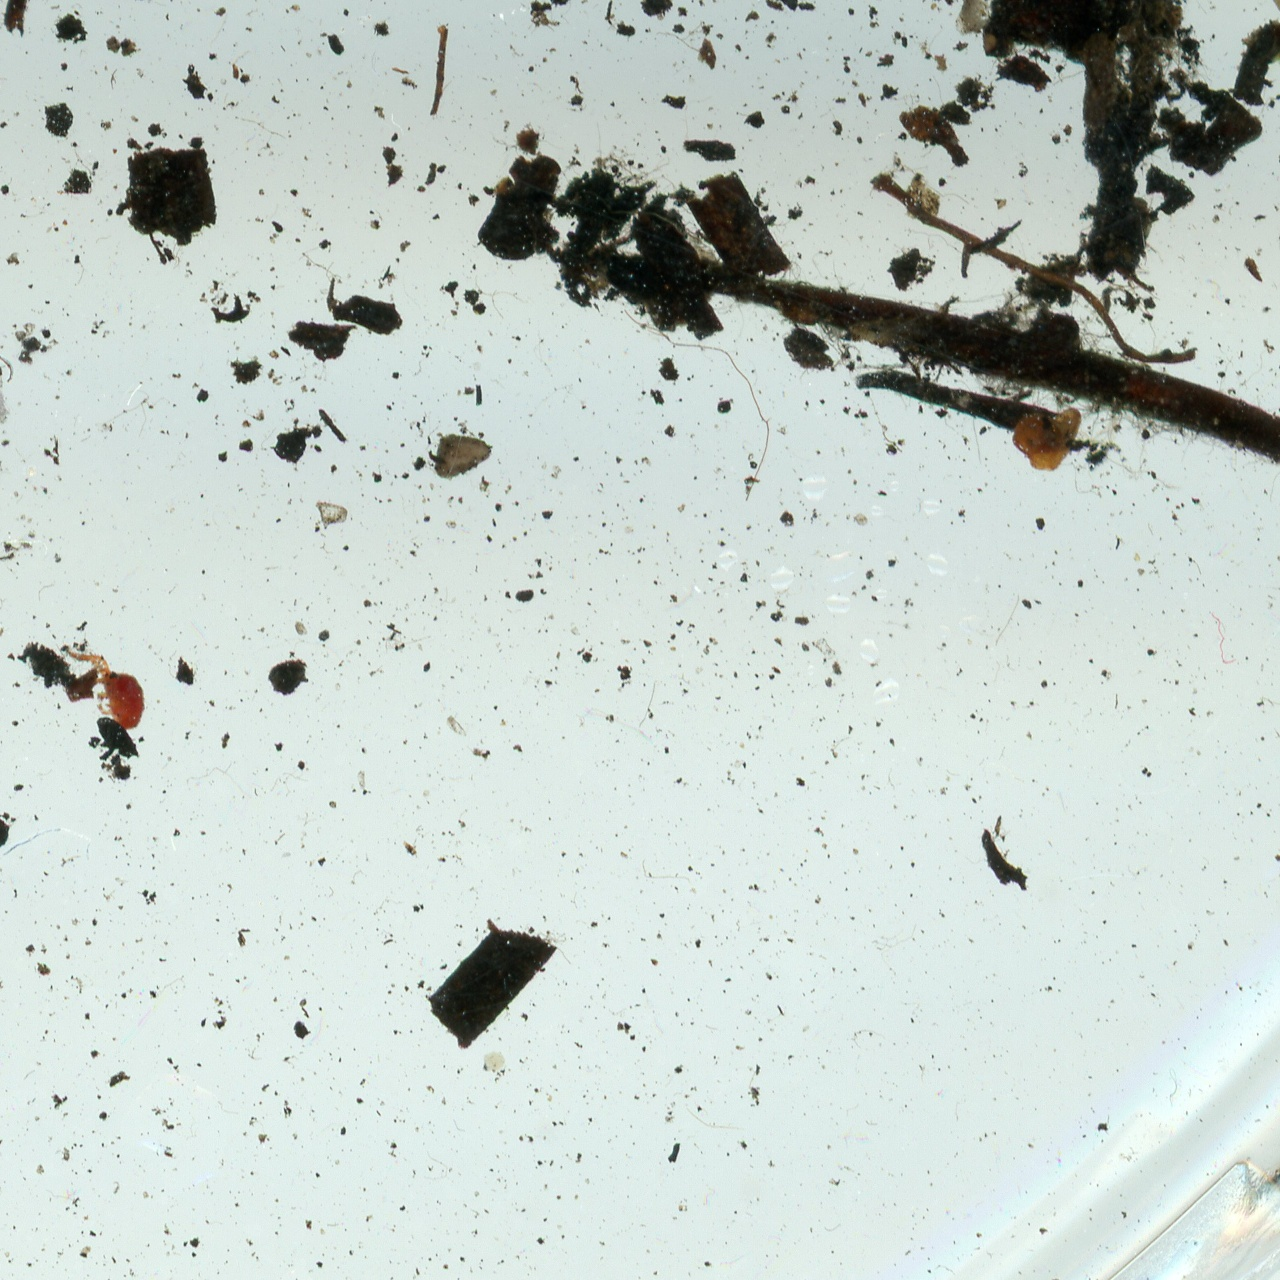arthropod: (55, 620, 166, 745)
